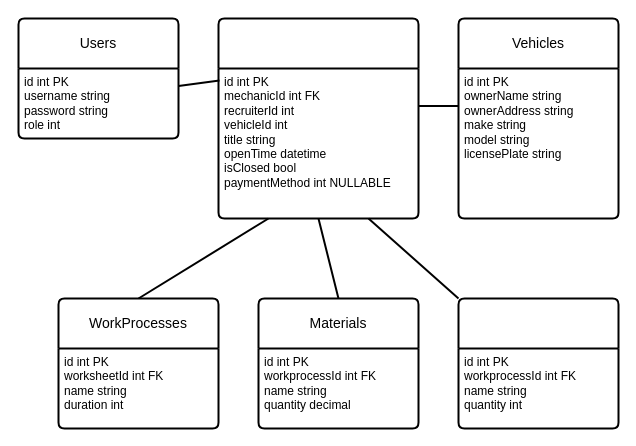
Some shapes in this 636 by 446 pixel diagram are drawn without their labels. The box of each missing label's shape, as (x1, y1, x2, y2) in pixels:
Parts: (457, 297, 619, 429)
Worksheets: (217, 17, 419, 219)
